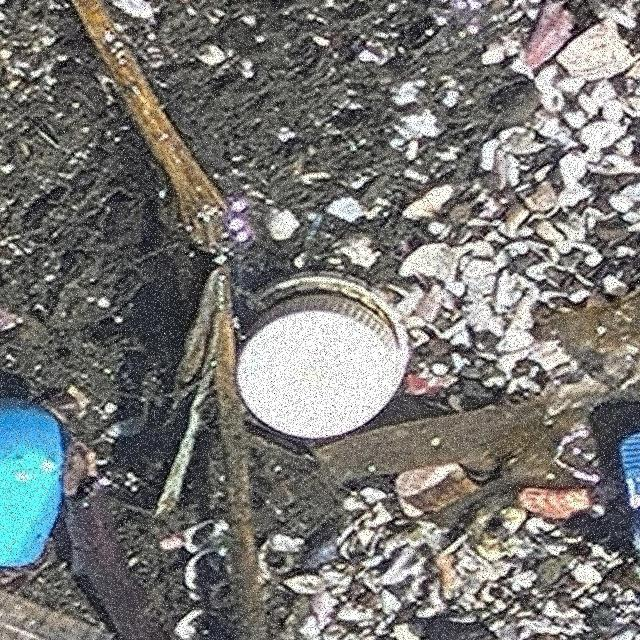plastic_waste: (237, 272, 412, 441)
